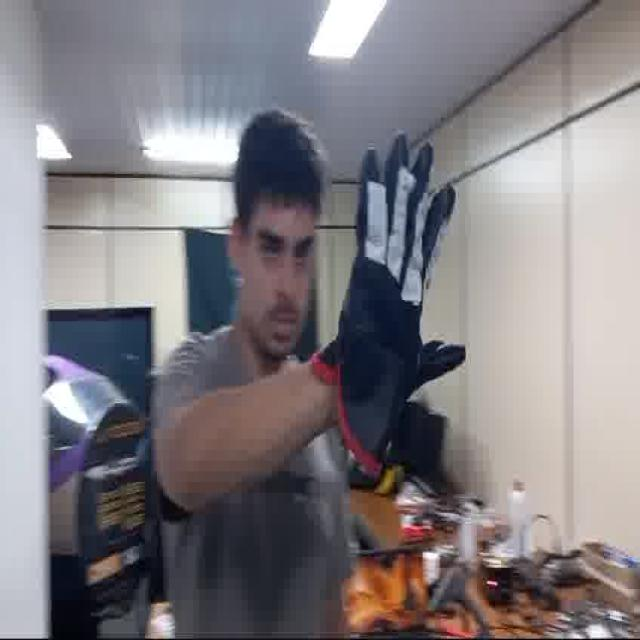Gloves: (332, 126, 468, 451)
